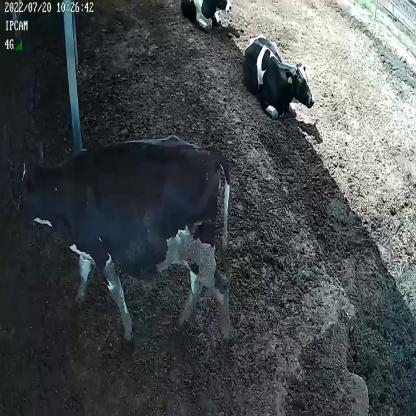cow: (14, 133, 234, 354), (238, 30, 315, 121), (179, 0, 232, 31)
